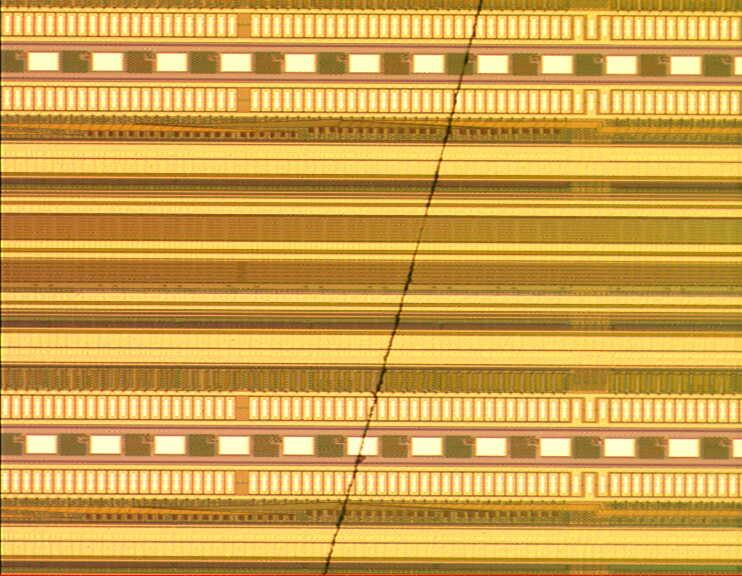SCRATCH: (314, 1, 489, 576)
